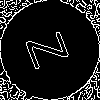Z: (25, 25, 79, 71)
